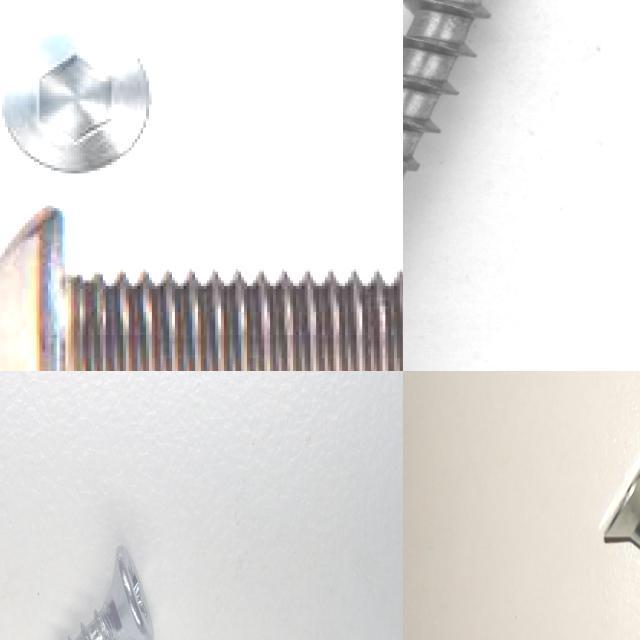Screw: (0, 211, 403, 371), (403, 0, 546, 371), (0, 21, 158, 177), (68, 544, 153, 640), (604, 467, 640, 547)
